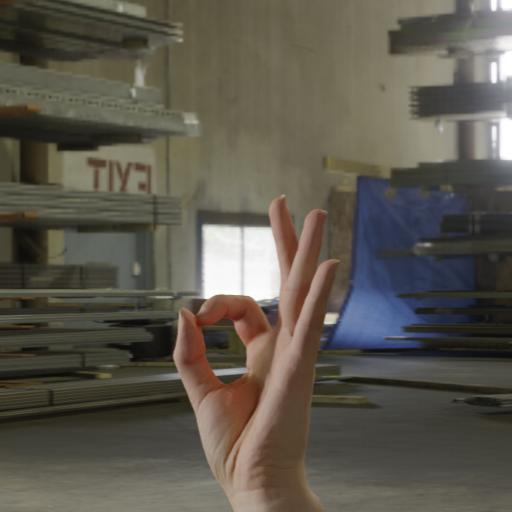F: (167, 188, 343, 480)
